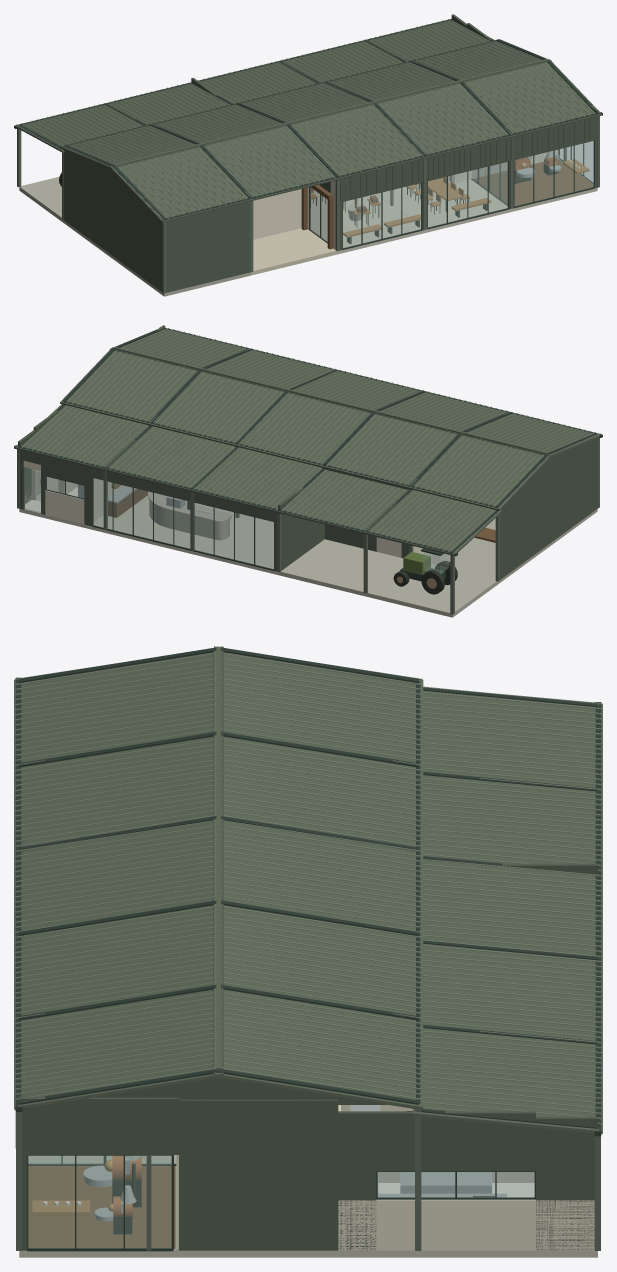
Rendered from glenorie-farm-concept-02.glb.
3 views of the same model, one above another, from view 1: azimuth 30°, elevation 25°; view 2: azimuth 150°, elevation 25°; view 3: azimuth 270°, elevation 25° (orthographic). The views are drawn at different scales.
Visible parts, largest first — view 1: Existing_gable_west, Existing_gable_east, Extension_roof_3330_to_3800, Farm_north_side_wall, Farm_prep_west_wall, Commercial_15m_by_14_5m, West_upper_cladding, Fixed_workshop_glazing_glass, Roastery_west_glazing_glass, Operable_stock_gate_glass, Entry_bay, Roastery_floor (+12 smaller); view 2: Existing_gable_east, Extension_roof_3330_to_3800, Existing_gable_west, East_workshop_glazing_glass, Farm_north_side_wall, Tractor_carport_10m_by_4_5m, Commercial_15m_by_14_5m, East_upper_cladding, Longitudinal_tie (×3), Farm_prep_5m_by_10m, North_extension_end, Ridge_cap (+15 smaller); view 3: Existing_gable_east, Existing_gable_west, Extension_roof_3330_to_3800, South_toilet_wall, South_kitchen_low, Roastery_south_glazing_glass, Roastery_south_high, South_kitchen_high, Roastery_floor, South_kitchen_start, Commercial_15m_by_14_5m, Longitudinal_tie (×3) (+16 smaller).
Boxes of the visible parts, x1=… form: Existing_gable_west: x1=110, y1=59, x2=601, y2=222; Existing_gable_east: x1=60, y1=39, x2=551, y2=169; Extension_roof_3330_to_3800: x1=15, y1=19, x2=494, y2=152; Farm_north_side_wall: x1=64, y1=149, x2=161, y2=291; Farm_prep_west_wall: x1=166, y1=201, x2=250, y2=292; Commercial_15m_by_14_5m: x1=310, y1=160, x2=597, y2=254; West_upper_cladding: x1=340, y1=117, x2=594, y2=202; Fixed_workshop_glazing_glass: x1=428, y1=162, x2=507, y2=227; Roastery_west_glazing_glass: x1=515, y1=141, x2=593, y2=206; Operable_stock_gate_glass: x1=343, y1=183, x2=420, y2=248; Entry_bay: x1=251, y1=228, x2=337, y2=275; Roastery_floor: x1=473, y1=160, x2=593, y2=205; Existing_gable_east: x1=60, y1=347, x2=551, y2=510; Extension_roof_3330_to_3800: x1=15, y1=404, x2=501, y2=555; Existing_gable_west: x1=110, y1=329, x2=600, y2=457; East_workshop_glazing_glass: x1=93, y1=478, x2=273, y2=569; Farm_north_side_wall: x1=500, y1=437, x2=597, y2=579; Tractor_carport_10m_by_4_5m: x1=279, y1=539, x2=497, y2=617; Commercial_15m_by_14_5m: x1=19, y1=495, x2=279, y2=575; East_upper_cladding: x1=20, y1=450, x2=276, y2=522; Longitudinal_tie (×3): x1=19, y1=328, x2=595, y2=552; Farm_prep_5m_by_10m: x1=420, y1=509, x2=597, y2=584; North_extension_end: x1=278, y1=487, x2=324, y2=570; Ridge_cap: x1=113, y1=347, x2=548, y2=454; Existing_gable_east: x1=213, y1=646, x2=423, y2=1110; Existing_gable_west: x1=14, y1=646, x2=223, y2=1109; Extension_roof_3330_to_3800: x1=413, y1=686, x2=602, y2=1134; South_toilet_wall: x1=179, y1=1099, x2=338, y2=1250; South_kitchen_low: x1=338, y1=1199, x2=594, y2=1250; Roastery_south_glazing_glass: x1=28, y1=1156, x2=171, y2=1248; Roastery_south_high: x1=19, y1=1096, x2=178, y2=1154; South_kitchen_high: x1=376, y1=1111, x2=535, y2=1171; Roastery_floor: x1=28, y1=1166, x2=175, y2=1248; South_kitchen_start: x1=536, y1=1116, x2=597, y2=1250; Commercial_15m_by_14_5m: x1=19, y1=1155, x2=597, y2=1257; Longitudinal_tie (×3): x1=17, y1=681, x2=599, y2=1127.
Bounding box in the file's own units: 25.5 × 5.24 × 14.76.
